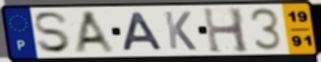3: (248, 6, 283, 53)
A: (73, 9, 119, 55), (121, 11, 166, 52)
H: (201, 6, 252, 55)
K: (162, 10, 199, 52)
S: (32, 11, 74, 55)
